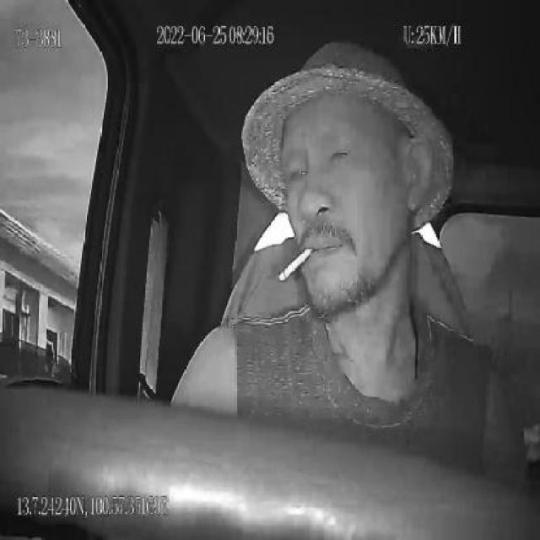smoking: (280, 244, 314, 283)
